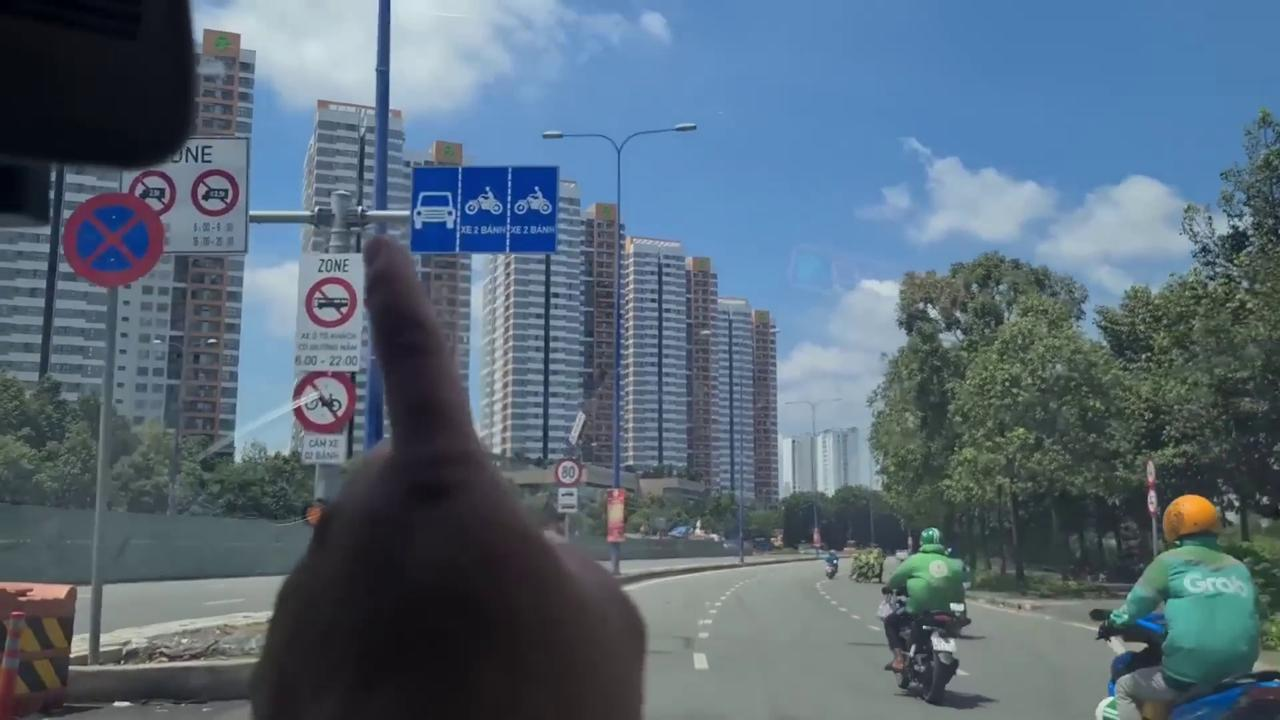Biển phụ: (301, 431, 348, 467), (556, 486, 579, 514)
Cấm cac phương tiện hoạt động trong khung giờ cố định: (117, 135, 253, 258), (294, 251, 361, 373)
Cấm dừng - Cấm đỗ: (62, 188, 164, 289)
Cấm xe máy: (293, 370, 356, 433)
Giới hạn tốc độ 80Km/h: (554, 458, 582, 487)
Làn đường cho từng xe: (405, 158, 560, 258)
